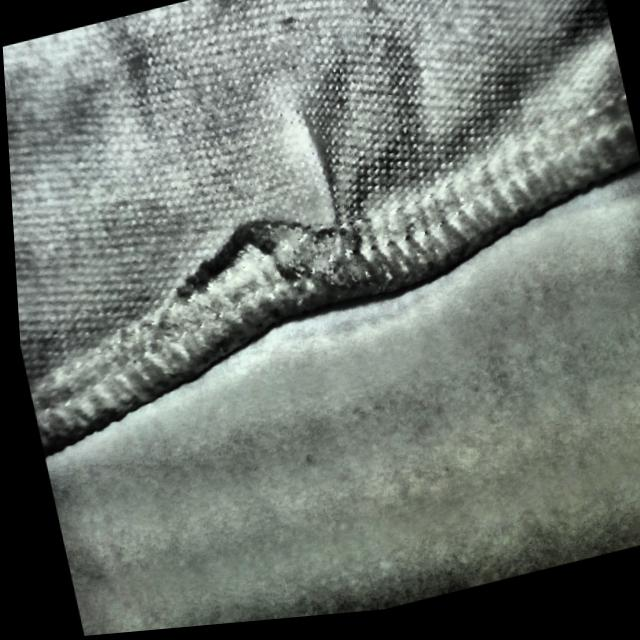seam: (152, 130, 398, 357)
